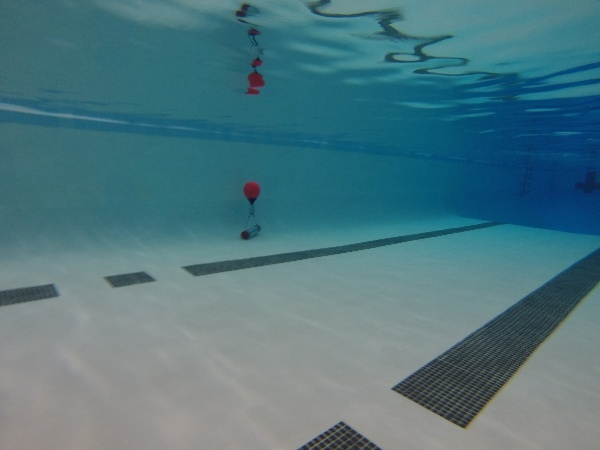buoy_red: (240, 179, 262, 205)
